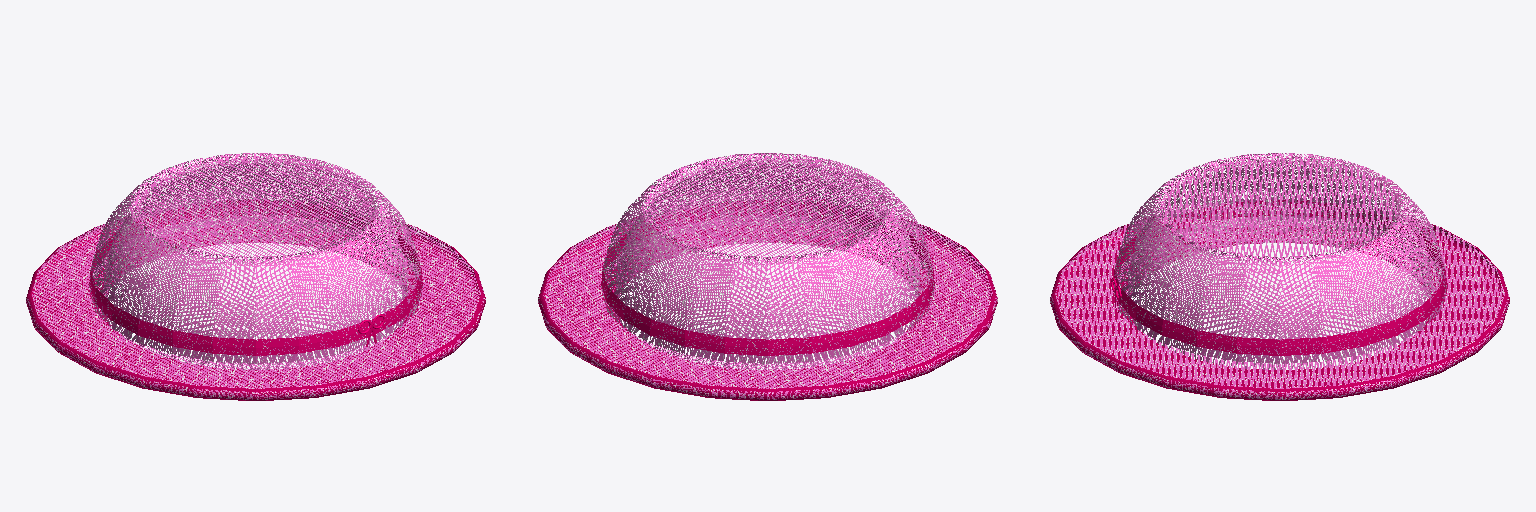
The picture shows the model from 3 angles: view 1: azimuth 30°, elevation 25°; view 2: azimuth 150°, elevation 25°; view 3: azimuth 270°, elevation 25°; orthographic projection.
Parts seen in each view (by area): view 1: group_0_ID41.001, group_0.003_ID68.003, group_0.007_ID100.003, group_0.004_ID76.001, group_0.005_ID84.004, group_0.002_ID62.001, group_0.006_ID92.002, group_0.001_ID54.001; view 2: group_0_ID41.001, group_0.003_ID68.003, group_0.007_ID100.003, group_0.004_ID76.001, group_0.005_ID84.004, group_0.002_ID62.001, group_0.006_ID92.002, group_0.001_ID54.001; view 3: group_0_ID41.001, group_0.003_ID68.003, group_0.007_ID100.003, group_0.004_ID76.001, group_0.005_ID84.004, group_0.002_ID62.001, group_0.006_ID92.002, group_0.001_ID54.001.
Part boxes in pixels (bbox=[...]): group_0_ID41.001: bbox=[91, 153, 420, 369]; group_0.003_ID68.003: bbox=[32, 199, 480, 388]; group_0.007_ID100.003: bbox=[33, 216, 478, 388]; group_0.004_ID76.001: bbox=[89, 200, 422, 355]; group_0.005_ID84.004: bbox=[26, 200, 485, 399]; group_0.002_ID62.001: bbox=[28, 199, 483, 391]; group_0.006_ID92.002: bbox=[89, 215, 422, 363]; group_0.001_ID54.001: bbox=[31, 226, 480, 400]; group_0_ID41.001: bbox=[603, 153, 932, 369]; group_0.003_ID68.003: bbox=[543, 199, 992, 388]; group_0.007_ID100.003: bbox=[545, 216, 990, 388]; group_0.004_ID76.001: bbox=[601, 200, 934, 355]; group_0.005_ID84.004: bbox=[538, 201, 997, 399]; group_0.002_ID62.001: bbox=[540, 202, 995, 391]; group_0.006_ID92.002: bbox=[601, 215, 934, 363]; group_0.001_ID54.001: bbox=[543, 223, 992, 400]; group_0_ID41.001: bbox=[1115, 153, 1444, 369]; group_0.003_ID68.003: bbox=[1055, 199, 1504, 388]; group_0.007_ID100.003: bbox=[1057, 217, 1502, 388]; group_0.004_ID76.001: bbox=[1113, 200, 1446, 355]; group_0.005_ID84.004: bbox=[1050, 200, 1509, 399]; group_0.002_ID62.001: bbox=[1052, 199, 1507, 391]; group_0.006_ID92.002: bbox=[1114, 215, 1446, 363]; group_0.001_ID54.001: bbox=[1055, 226, 1503, 400].
Size of the model in its own units: 0.3168 by 0.0767 by 0.3168.
3 materials, 1 textured.